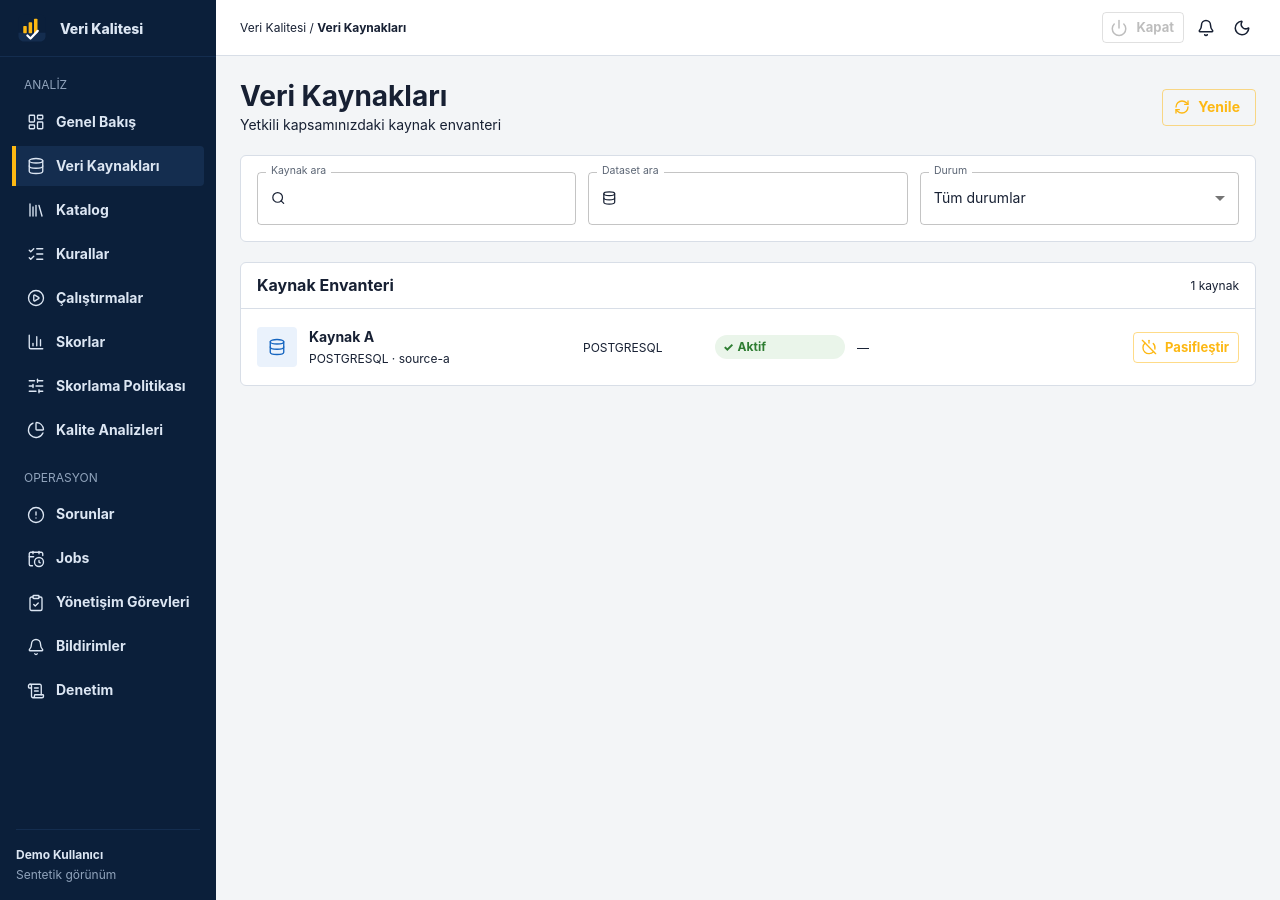
Test case: Veri Kaynakları ekranı › pasifleştirme gerekçesi boşken submit'i kapalı tutar
Click the button "Pasifleştir" at (1186, 347), box [1133,332,1239,363]
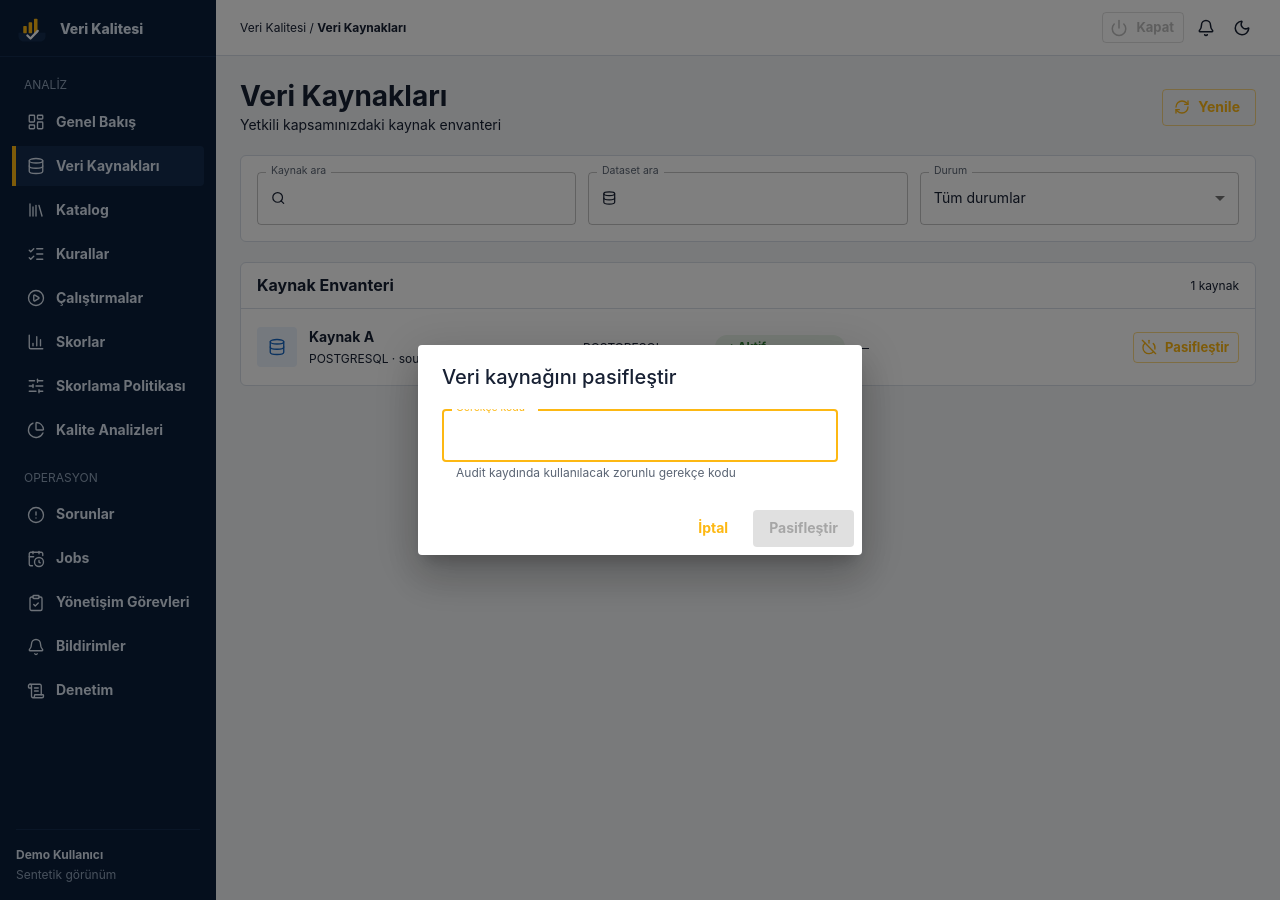
Expected: the button "Pasifleştir" is disabled, [753,510,854,547]
Type "RETIRED" into the field labelled "Gerekçe kodu *" at (640, 436), box [442,409,838,462]
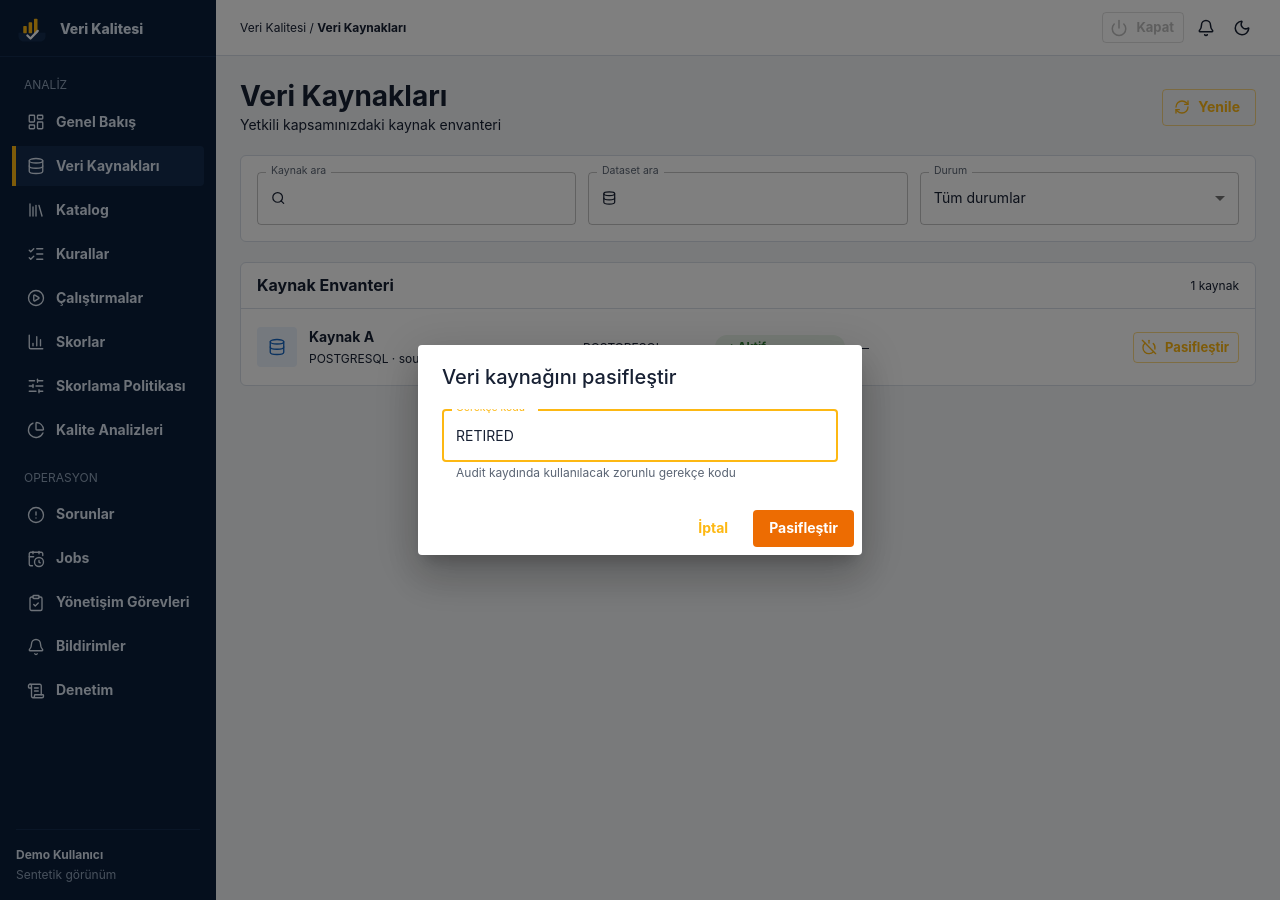
Expected: the button "Pasifleştir" is enabled, [753,510,854,547]
